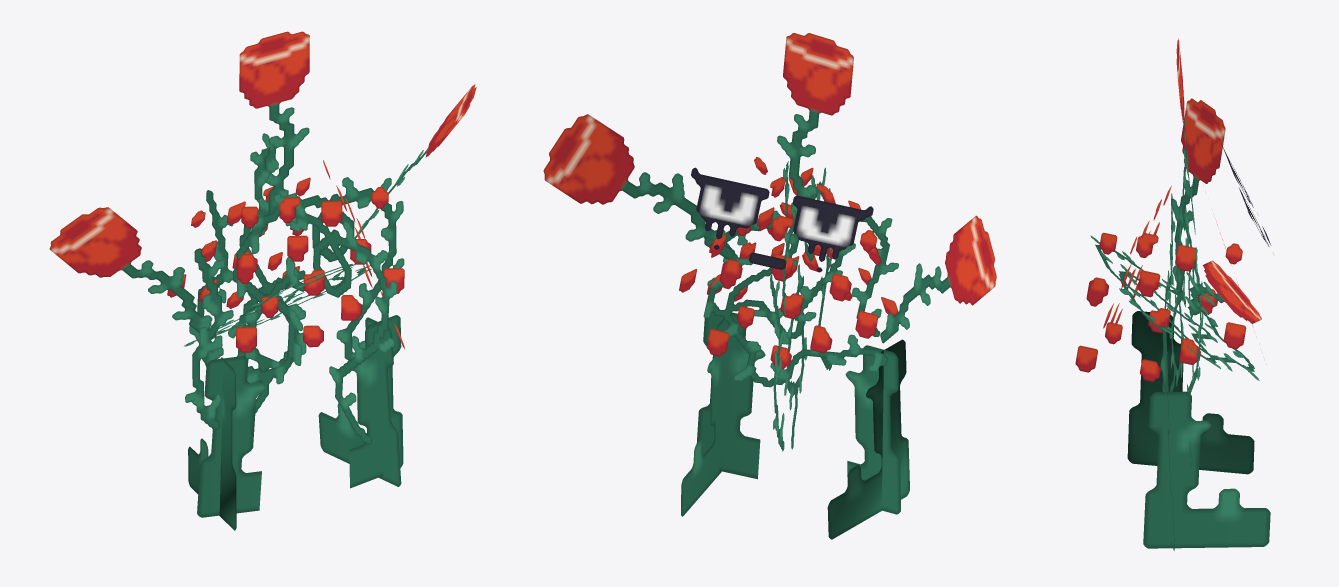
File: RoseBush.fbx
3 views of the same model, side by side, from view 1: azimuth 30°, elevation 25°; view 2: azimuth 150°, elevation 25°; view 3: azimuth 270°, elevation 25° (orthographic). The views are drawn at different scales.
Parts seen in each view (by area): view 1: RoseBush, LegL, LegR, ArmL, ArmR; view 2: RoseBush, LegL, ArmR, LegR, ArmL; view 3: RoseBush, LegR, LegL, ArmL, ArmR.
Part boxes in pixels (left/top/right/bottom): RoseBush: left=167, top=31, right=404, bottom=444; LegL: left=188, top=356, right=267, bottom=530; LegR: left=318, top=315, right=403, bottom=488; ArmL: left=49, top=207, right=216, bottom=339; ArmR: left=355, top=84, right=476, bottom=238; RoseBush: left=679, top=33, right=898, bottom=451; LegL: left=827, top=339, right=909, bottom=539; ArmR: left=543, top=114, right=734, bottom=259; LegR: left=681, top=312, right=765, bottom=516; ArmL: left=880, top=215, right=996, bottom=343; RoseBush: left=1075, top=38, right=1273, bottom=465; LegR: left=1143, top=382, right=1270, bottom=550; LegL: left=1127, top=308, right=1254, bottom=474; ArmL: left=1172, top=98, right=1225, bottom=295; ArmR: left=1185, top=260, right=1261, bottom=323.
Bounding box in the file's own units: 247 × 247 × 131.
Materials: 1 (1 with a texture image).
